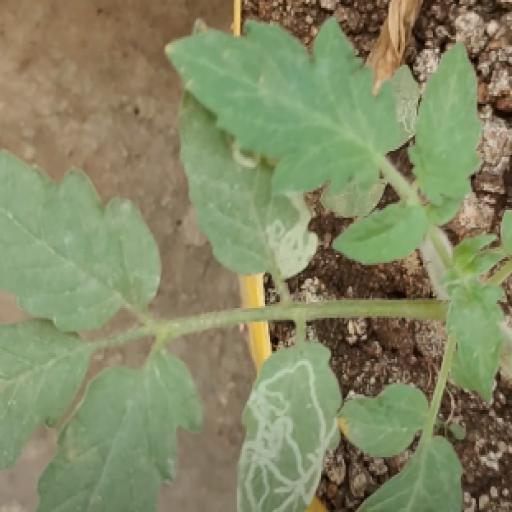disease_tomato: (178, 82, 322, 282), (237, 336, 341, 512)
